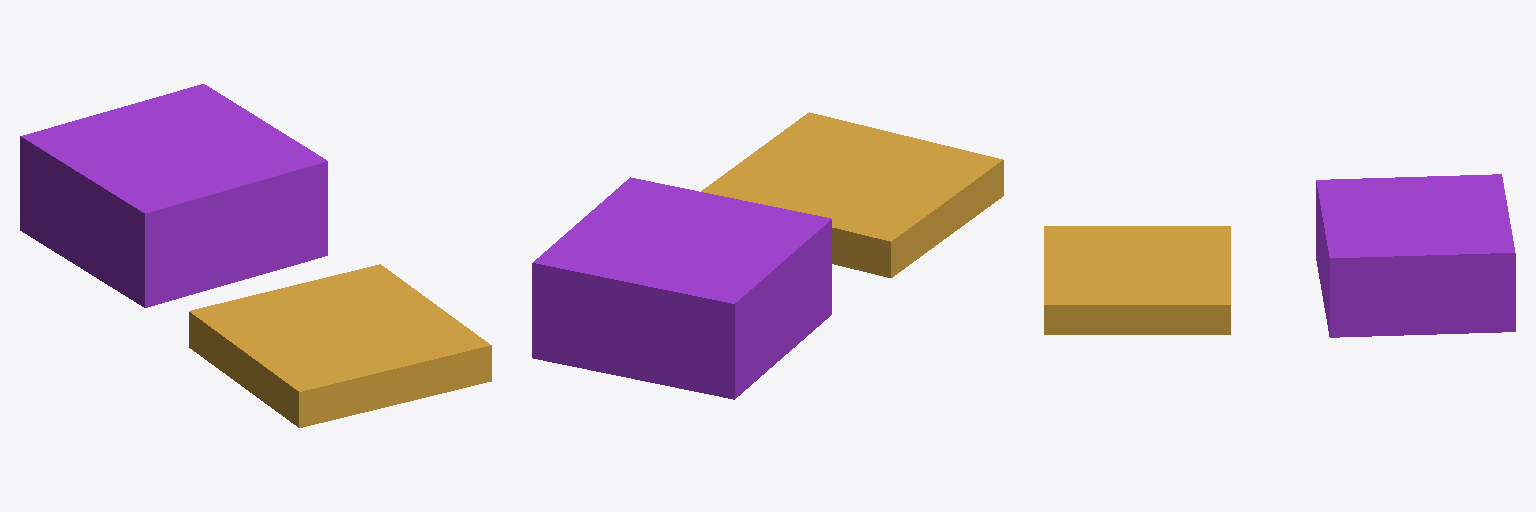
The robot description file, URDF, robot "multi_boxes":
<?xml version="1.0"?>
<robot name="multi_boxes">
  <!-- Note: Platform/ground boxes with large coordinates (-10 or 10) have been filtered out -->
  <link name="world"/>
  <!-- Box 1 -->
  <link name="multi_boxes_link">
    <visual>
      <origin xyz="0 0 0" rpy="0 0 0"/>
      <geometry>
        <mesh filename="box_models/box1.obj" scale="0.7415730337078652 0.7415730337078652 0.7415730337078652"/>
      </geometry>
      <material name="box1_material">
        <color rgba="0.3 0.7 0.9 0.5"/>
      </material>
    </visual>

    <collision name="multi_boxes">
      <origin xyz="0 0 0" rpy="0 0 0"/>
      <geometry>
        <mesh filename="box_models/box1.obj" scale="0.7415730337078652 0.7415730337078652 0.7415730337078652"/>
      </geometry>
    </collision>

    <inertial>
      <origin xyz="0 0 0" rpy="0 0 0"/>
      <mass value="33.33"/>
      <inertia ixx="33.33" ixy="0.0" ixz="0.0" iyy="33.33" iyz="0.0" izz="33.33"/>
    </inertial>
  </link>

  <!-- Box 2 -->
  <link name="box2_link">
    <visual>
      <origin xyz="0 0 0" rpy="0 0 0"/>
      <geometry>
        <mesh filename="box_models/box2.obj" scale="0.7415730337078652 0.7415730337078652 0.7415730337078652"/>
      </geometry>
      <material name="box2_material">
        <color rgba="0.7 0.3 0.9 0.5"/>
      </material>
    </visual>

    <collision name="box2">
      <origin xyz="0 0 0" rpy="0 0 0"/>
      <geometry>
        <mesh filename="box_models/box2.obj" scale="0.7415730337078652 0.7415730337078652 0.7415730337078652"/>
      </geometry>
    </collision>

    <inertial>
      <origin xyz="0 0 0" rpy="0 0 0"/>
      <mass value="33.33"/>
      <inertia ixx="33.33" ixy="0.0" ixz="0.0" iyy="33.33" iyz="0.0" izz="33.33"/>
    </inertial>
  </link>

  <!-- Box 3 -->
  <link name="box3_link">
    <visual>
      <origin xyz="0 0 0" rpy="0 0 0"/>
      <geometry>
        <mesh filename="box_models/box3.obj" scale="0.7415730337078652 0.7415730337078652 0.7415730337078652"/>
      </geometry>
      <material name="box3_material">
        <color rgba="0.9 0.7 0.3 0.5"/>
      </material>
    </visual>

    <collision name="box3">
      <origin xyz="0 0 0" rpy="0 0 0"/>
      <geometry>
        <mesh filename="box_models/box3.obj" scale="0.7415730337078652 0.7415730337078652 0.7415730337078652"/>
      </geometry>
    </collision>

    <inertial>
      <origin xyz="0 0 0" rpy="0 0 0"/>
      <mass value="33.33"/>
      <inertia ixx="33.33" ixy="0.0" ixz="0.0" iyy="33.33" iyz="0.0" izz="33.33"/>
    </inertial>
  </link>

  <!-- Fixed joint to world for Box 1 -->
  <joint name="world_to_multi_boxes" type="fixed">
    <parent link="world"/>
    <child link="multi_boxes_link"/>
    <origin xyz="0 0 0" rpy="0 0 0"/>
  </joint>

  <!-- Fixed joint to world for Box 2 -->
  <joint name="world_to_box2" type="fixed">
    <parent link="world"/>
    <child link="box2_link"/>
    <origin xyz="0 0 0" rpy="0 0 0"/>
  </joint>

  <!-- Fixed joint to world for Box 3 -->
  <joint name="world_to_box3" type="fixed">
    <parent link="world"/>
    <child link="box3_link"/>
    <origin xyz="0 0 0" rpy="0 0 0"/>
  </joint>

</robot>

--- Render facts (derived) ---
Views: 3 orthographic renders of the robot side by side, from view 1: azimuth 30°, elevation 25°; view 2: azimuth 150°, elevation 25°; view 3: azimuth 270°, elevation 25°.
Model multi_boxes with 4 links and 3 joints (3 fixed), rooted at world, posed all joints at 0.
Links seen in each view (by area): view 1: box2_link, box3_link; view 2: box2_link, box3_link; view 3: box2_link, box3_link.
Boxes of the visible links, x1=… form: box2_link: x1=20, y1=84, x2=327, y2=307; box3_link: x1=189, y1=264, x2=491, y2=427; box2_link: x1=532, y1=177, x2=831, y2=399; box3_link: x1=701, y1=112, x2=1003, y2=277; box2_link: x1=1316, y1=174, x2=1515, y2=337; box3_link: x1=1044, y1=226, x2=1230, y2=334.
Size in the robot's own frame: 0.7935 by 1.88 by 0.3485 metres.
2 mesh visuals loaded from 3 distinct referenced files (2 OBJ); not drawn: 1 (reference not matched to a file when rendering).